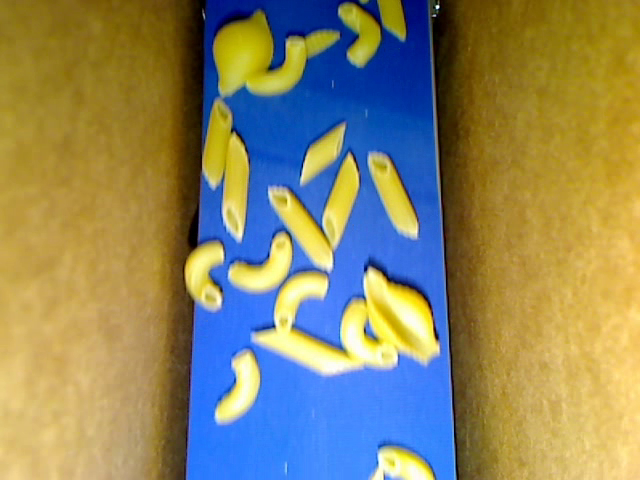elbow: (341, 296, 397, 369), (242, 36, 306, 97), (227, 231, 292, 291), (214, 348, 262, 424), (273, 271, 328, 332), (184, 240, 224, 310), (337, 4, 380, 67), (376, 446, 437, 479)
penne: (267, 186, 333, 271), (253, 328, 362, 376), (368, 152, 418, 238), (324, 150, 358, 249), (220, 132, 249, 244), (298, 122, 345, 184), (202, 95, 232, 190), (378, 1, 405, 41)
shell: (361, 267, 440, 366), (212, 10, 273, 96)
